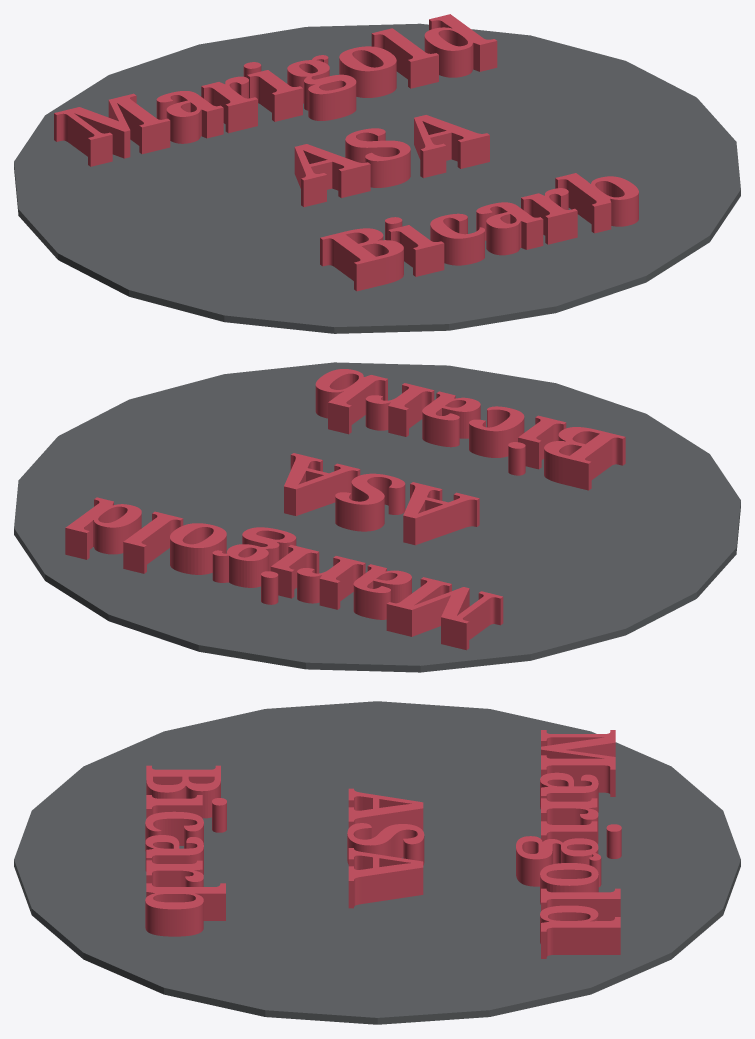
File: neworleans.gltf
3 renders of one model, top to bottom at view 1: azimuth 30°, elevation 25°; view 2: azimuth 150°, elevation 25°; view 3: azimuth 270°, elevation 25°, orthographic.
Visible parts, largest first — view 1: Mesh_Mesh_head_geo001_lambert2SG001; view 2: Mesh_Mesh_head_geo001_lambert2SG001; view 3: Mesh_Mesh_head_geo001_lambert2SG001.
Part boxes in pixels (<box>): Mesh_Mesh_head_geo001_lambert2SG001: <box>14,14,740,333</box>; Mesh_Mesh_head_geo001_lambert2SG001: <box>14,362,740,672</box>; Mesh_Mesh_head_geo001_lambert2SG001: <box>14,701,740,1024</box>.
Bounding box in the file's own units: 199 × 10 × 193.
